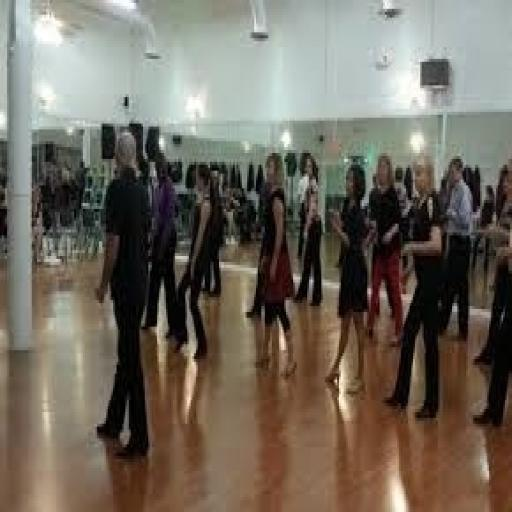dancing: (125, 54, 512, 462)
